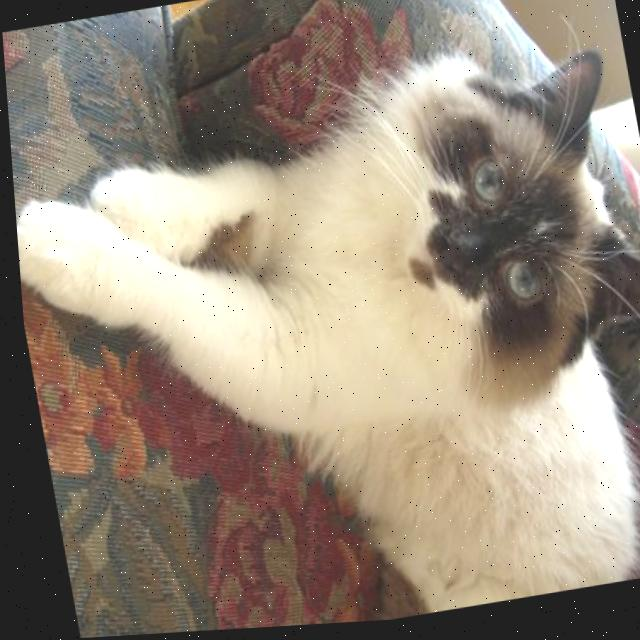Ragdoll: (3, 27, 640, 640)
